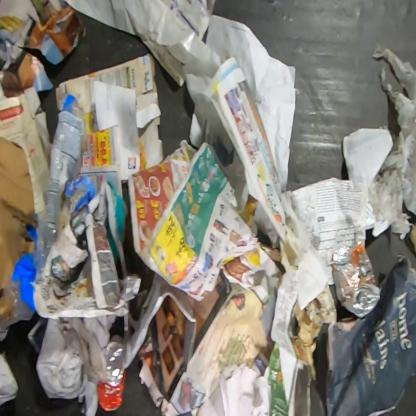cardboard: (325, 254, 415, 415), (55, 53, 164, 174), (0, 136, 39, 325), (0, 81, 52, 215)
metal: (332, 240, 382, 318), (96, 334, 127, 412)
soft_plastic: (61, 0, 221, 88), (33, 93, 87, 270)
